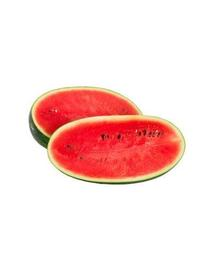watermelon: (28, 83, 187, 183)
